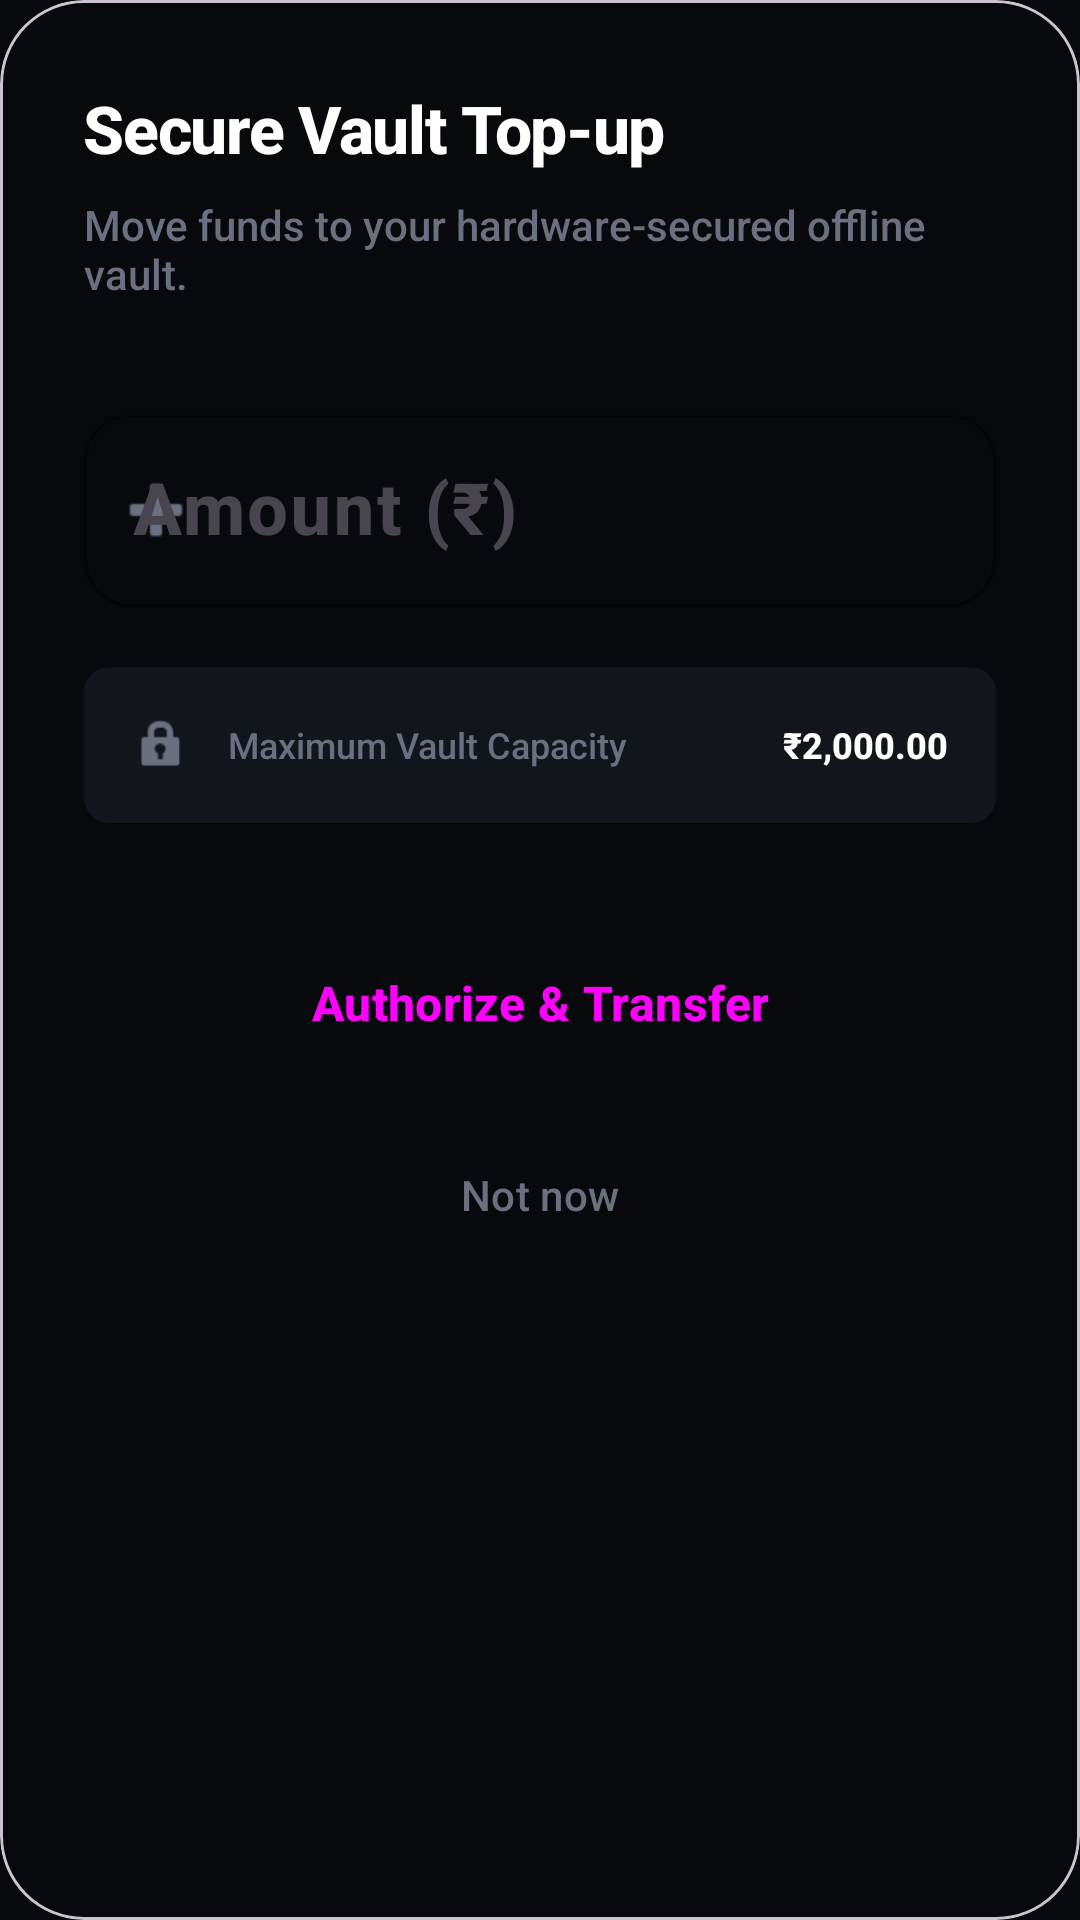

Icons on this 1080 × 1920 Android screen, each with its box as bbox=(x1, y1, x2, y2):
Security Lock Icon: bbox=(141, 721, 180, 766)
